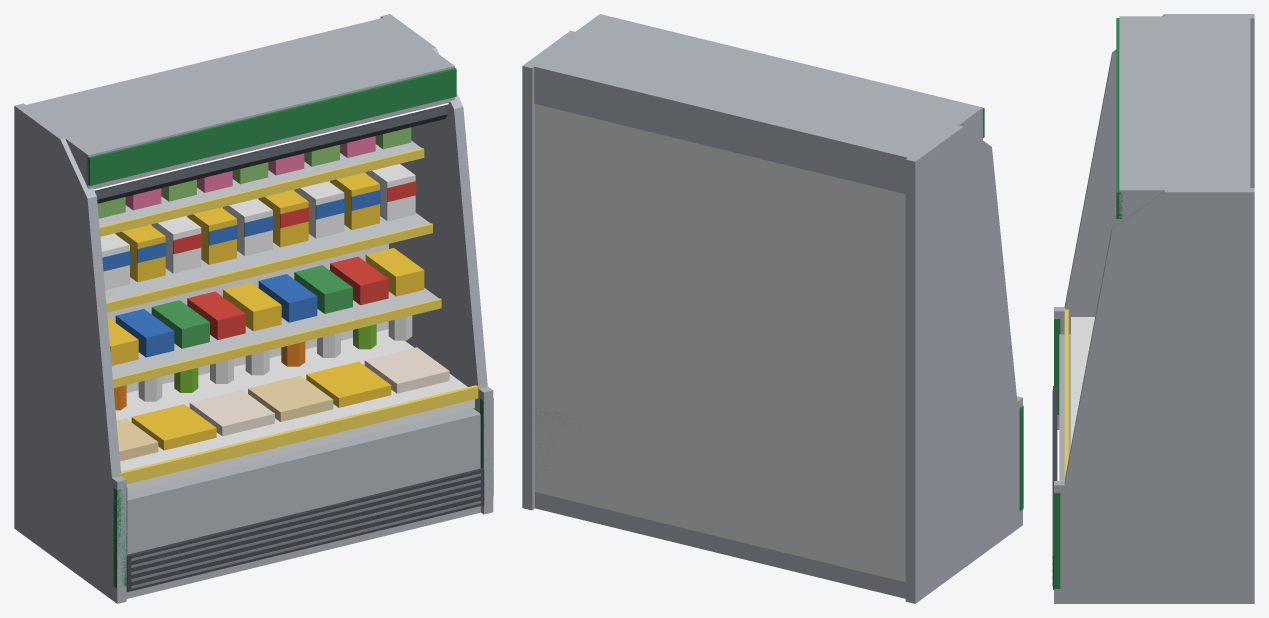
Rendered from Chiller_Multideck_Open_2m.glb.
3 renders of one model, left to right at view 1: azimuth 30°, elevation 25°; view 2: azimuth 150°, elevation 25°; view 3: azimuth 270°, elevation 25°, orthographic. The views are drawn at different scales.
Visible parts, largest first — view 1: Chiller_Multideck_Open_2m; view 2: Chiller_Multideck_Open_2m; view 3: Chiller_Multideck_Open_2m.
Boxes of the visible parts, left/top/right/bottom form: Chiller_Multideck_Open_2m: left=14, top=14, right=493, bottom=603; Chiller_Multideck_Open_2m: left=522, top=14, right=1023, bottom=603; Chiller_Multideck_Open_2m: left=1052, top=14, right=1254, bottom=603.
Size of the model in its own units: 2.01 by 2.15 by 0.958.
1 material, 1 textured.
